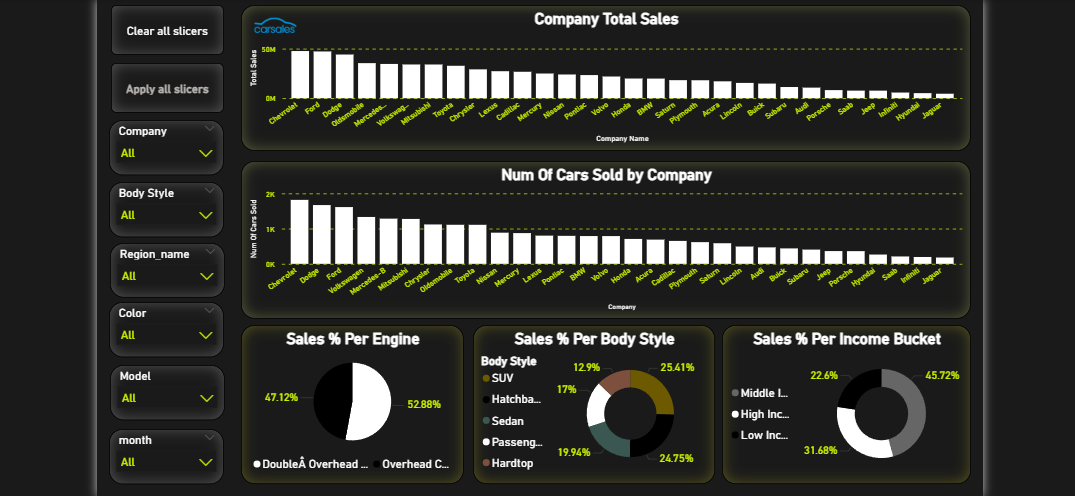

The page's visual inventory and layout, read from the dashboard file:
{"tool":"powerbi","page":{"name":"Preformance","canvas":[1280,720],"ordinal":2},"visuals":[{"type":"columnChart","title":"Company Total Sales","fields":{"Category":["car_dim.Company"],"Y":["Sum(sales_fact.Price ($))"]},"box":[207.7,9.2,1055.4,210.8],"z":0},{"type":"donutChart","title":"Sales % Per Income Bucket","fields":{"Category":["customer_dim.Income Bucket"],"Y":["Sum(sales_fact.Price ($))"]},"box":[904,472,360,230],"z":1000},{"type":"pieChart","title":"Sales % Per Engine","fields":{"Category":["car_dim.Engine"],"Y":["Sum(sales_fact.Price ($))"]},"box":[208,472,322,230],"z":2000},{"type":"donutChart","title":"Sales % Per Body Style","fields":{"Category":["car_dim.Body Style"],"Y":["Sum(sales_fact.Price ($))"]},"box":[544,472,350,230],"z":3000},{"type":"columnChart","fields":{"Category":["car_dim.Company Hierarchy.Company"],"Y":["sales_fact.Total Cars Sold"]},"box":[207.7,233.8,1055.4,227.7],"z":4000},{"type":"slicer","title":"Company","fields":{"Values":["car_dim.Company"]},"box":[17.2,174.9,166.3,80.2],"z":5000},{"type":"slicer","fields":{"Values":["car_dim.Color"]},"box":[17.7,437.4,166,80.2],"z":6000},{"type":"slicer","fields":{"Values":["car_dim.Body Style"]},"box":[17.2,264.4,166.3,80.2],"z":7000},{"type":"slicer","fields":{"Values":["car_dim.Model"]},"box":[18.8,529.3,166,80.2],"z":8000},{"type":"slicer","fields":{"Values":["region_dim.Region_name"]},"box":[18.8,352.6,166,79.1],"z":9000},{"type":"actionButton","box":[20,92.3,163.1,72.3],"z":10000},{"type":"actionButton","box":[20,9.2,163.1,72.3],"z":11000},{"type":"image","box":[223.3,0,70.9,75.6],"z":12000},{"type":"slicer","fields":{"Values":["Date_dim.month"]},"box":[17.7,622.3,166.3,80.2],"z":13000}]}

Visuals, with their boxes on the page's 1280x720 design canvas (x1, y1, x2, y2). These are canvas units, not pixel positions in the 1075x496 screenshot, which may show the page scaled, cropped or inside an application window:
"Company Total Sales" columnChart: rect(208, 9, 1263, 220)
"Sales % Per Income Bucket" donutChart: rect(904, 472, 1264, 702)
"Sales % Per Engine" pieChart: rect(208, 472, 530, 702)
"Sales % Per Body Style" donutChart: rect(544, 472, 894, 702)
columnChart - car_dim.Company Hierarchy.Company x sales_fact.Total Cars Sold: rect(208, 234, 1263, 462)
"Company" slicer: rect(17, 175, 184, 255)
slicer - car_dim.Color: rect(18, 437, 184, 518)
slicer - car_dim.Body Style: rect(17, 264, 184, 345)
slicer - car_dim.Model: rect(19, 529, 185, 610)
slicer - region_dim.Region_name: rect(19, 353, 185, 432)
actionButton: rect(20, 92, 183, 165)
actionButton: rect(20, 9, 183, 82)
image: rect(223, 0, 294, 76)
slicer - Date_dim.month: rect(18, 622, 184, 702)
